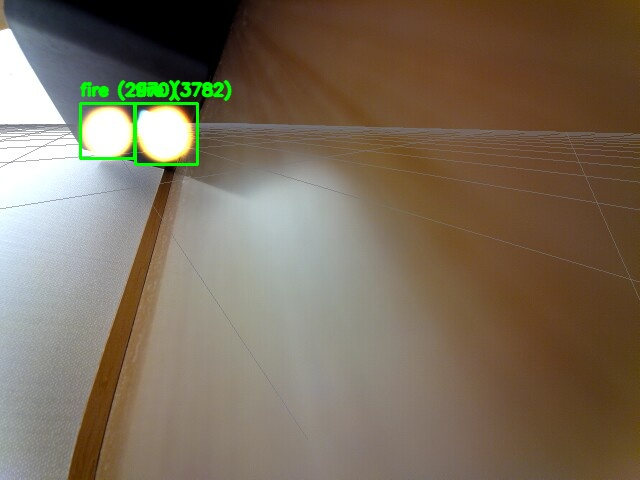fire: (135, 103, 197, 164), (80, 103, 134, 158)
